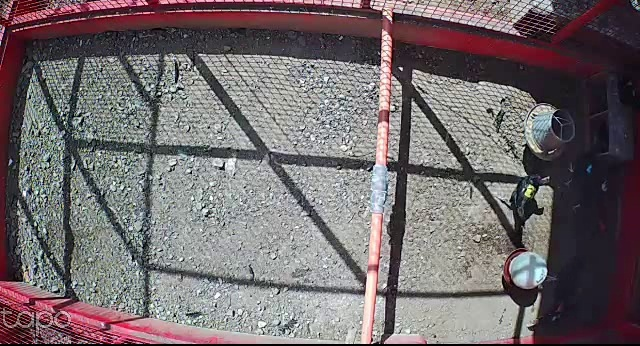Chicken: (502, 170, 556, 227), (538, 254, 587, 301), (562, 147, 600, 196)
Drinker: (501, 248, 549, 292)
Feeder: (521, 101, 580, 163)
Rooster: (520, 285, 586, 333)
Saddle_Color_Blue: (586, 164, 594, 173)
Saddle_Color_Yellow: (524, 185, 539, 199)
